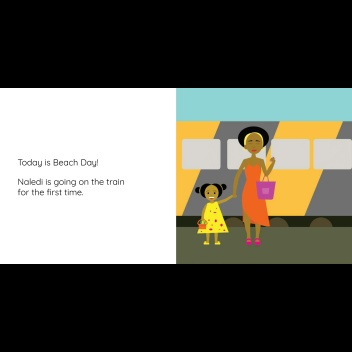latin: (17, 176, 124, 186), (16, 156, 98, 168), (16, 186, 84, 198)
